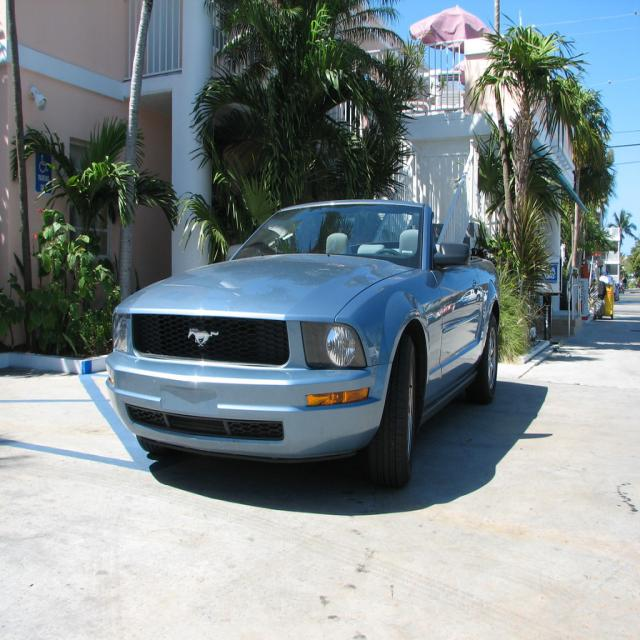car: (90, 190, 502, 479)
